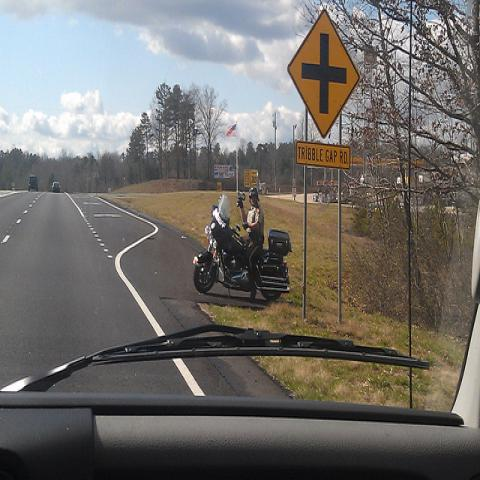car: (28, 174, 38, 192), (52, 180, 60, 193)
motorcycle: (192, 195, 290, 301)
